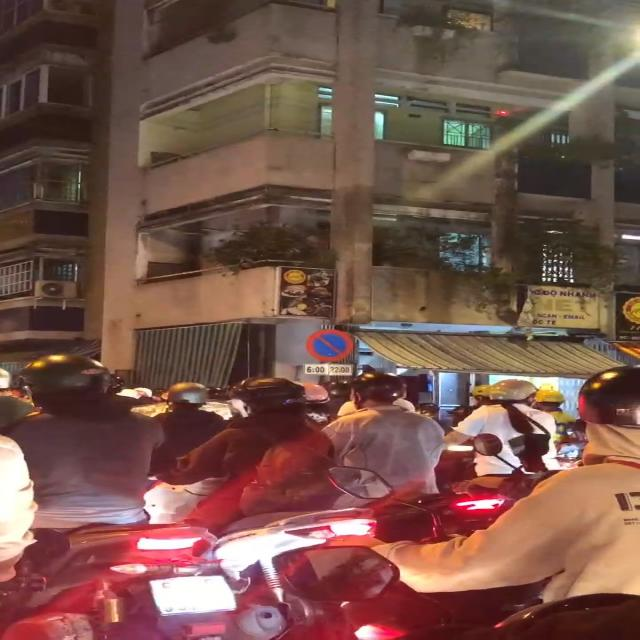Bien bao cam do xe: (304, 325, 358, 363)
